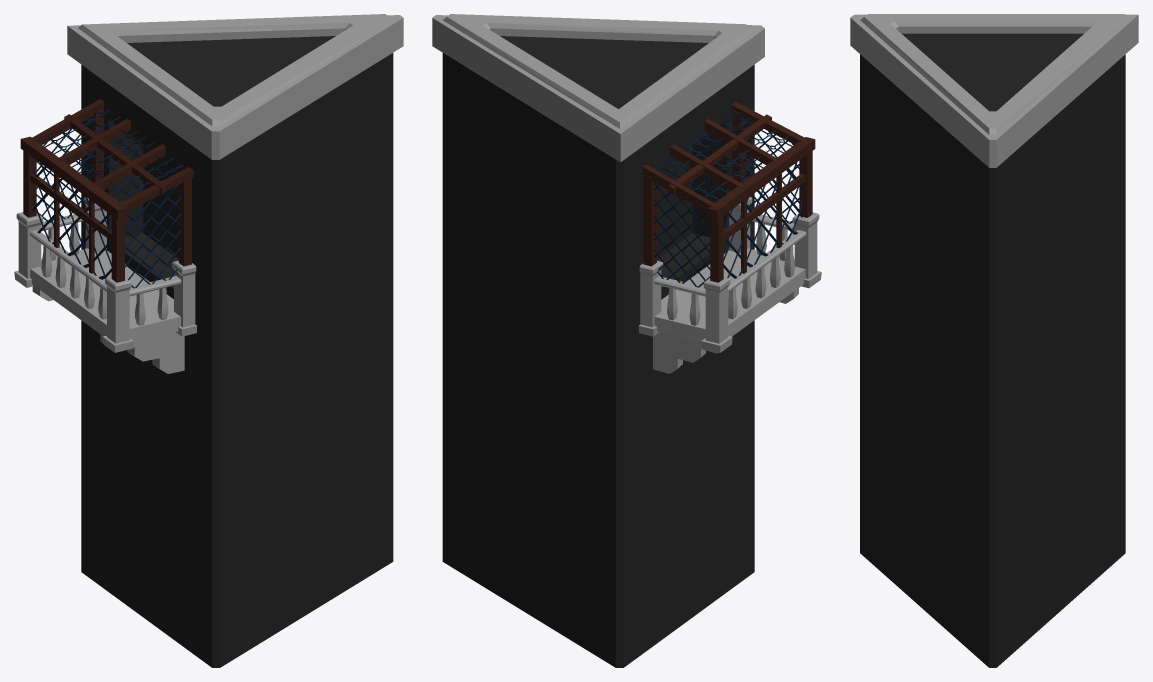
Rendered from civilian_house_21.FBX.
The picture shows the model from 3 angles, left to right: view 1: azimuth 30°, elevation 25°; view 2: azimuth 150°, elevation 25°; view 3: azimuth 270°, elevation 25°; orthographic projection.
Visible parts, largest first — view 1: civilian_house_21; view 2: civilian_house_21; view 3: civilian_house_21.
Boxes of the visible parts, bbox=[...] form: civilian_house_21: bbox=[14, 14, 403, 667]; civilian_house_21: bbox=[432, 14, 821, 667]; civilian_house_21: bbox=[850, 14, 1138, 667].
Bounding box in the file's own units: 710 × 1098 × 534.
